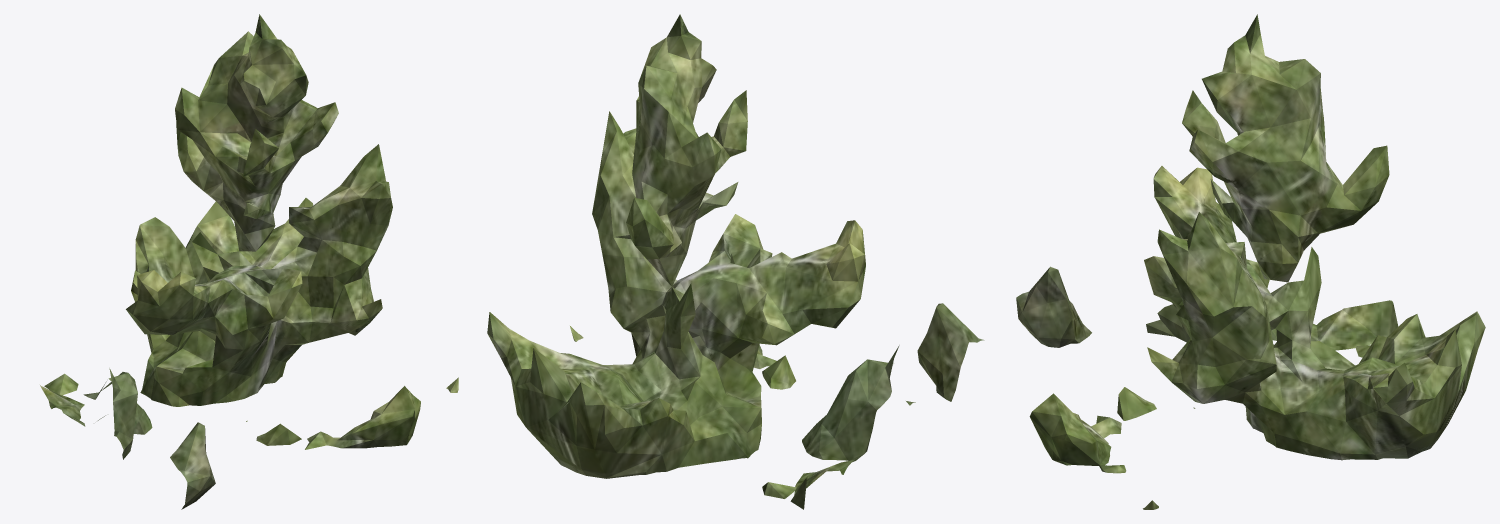
3 views of the same model, side by side, from view 1: azimuth 30°, elevation 25°; view 2: azimuth 150°, elevation 25°; view 3: azimuth 270°, elevation 25° (orthographic). The views are drawn at different scales.
Size of the model in its own units: 4.52 by 4.89 by 5.
Materials: 3 (3 with a texture image).
